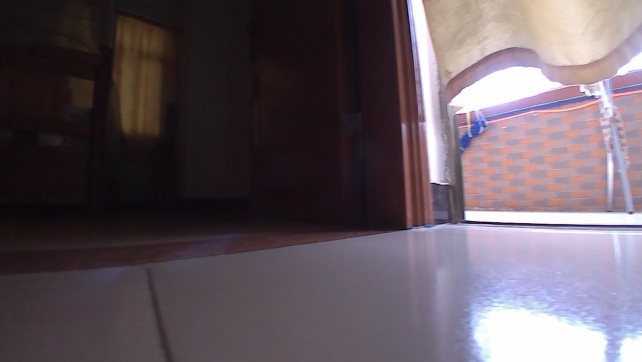door: (246, 0, 439, 230)
